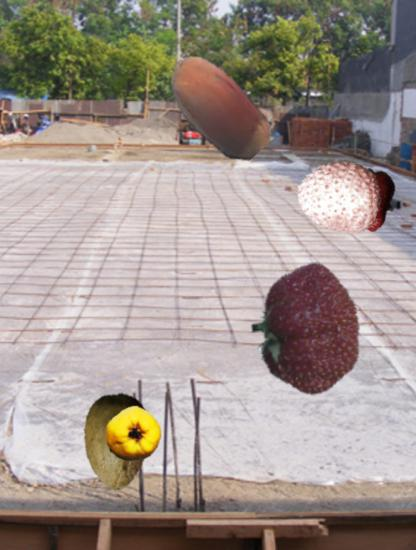Hazelnut: (153, 43, 279, 169)
Lychee: (297, 153, 382, 238)
Papaya: (66, 391, 166, 491)
Quince: (105, 406, 163, 464)
Strawberry: (239, 263, 373, 397), (342, 168, 401, 227)
